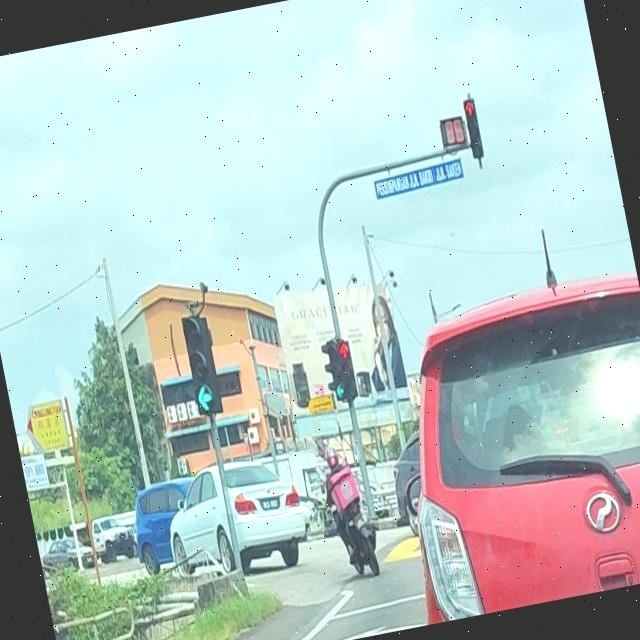green_light: (179, 313, 219, 417), (324, 338, 350, 402)
red_light: (461, 96, 486, 160), (337, 337, 359, 399)
